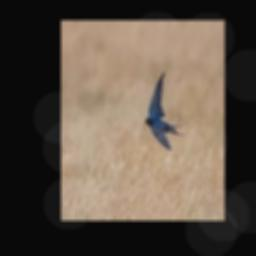Swallow: (145, 71, 184, 149)
